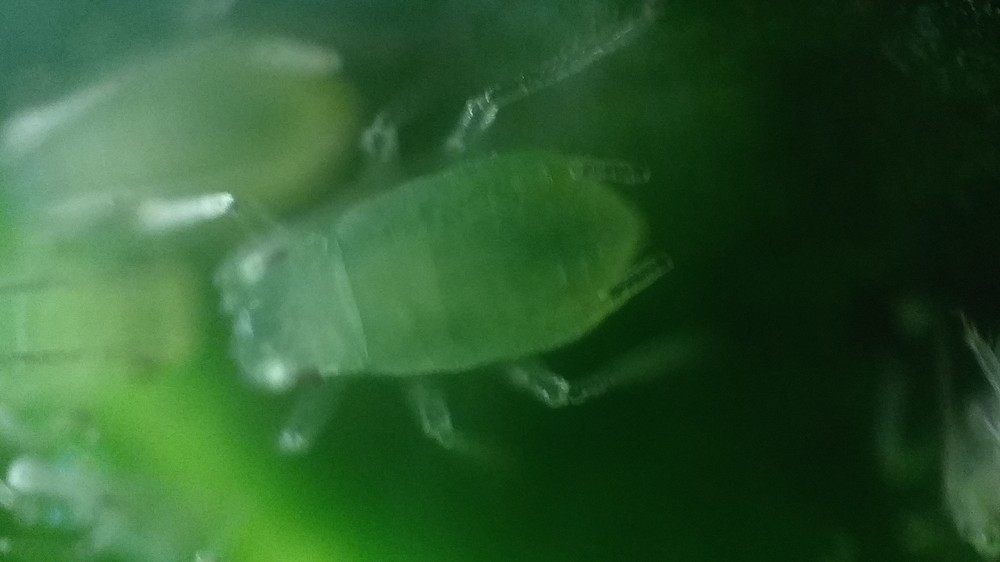Pulgon: (173, 41, 750, 495)
